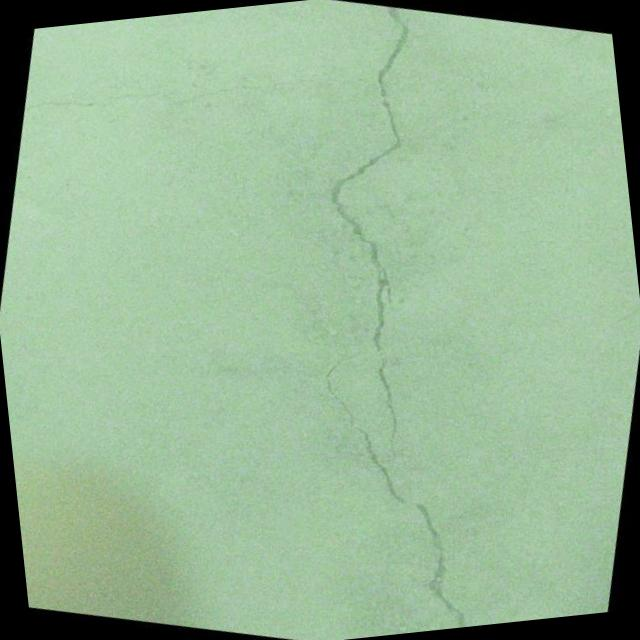crack: (0, 0, 495, 497), (294, 336, 440, 514), (380, 495, 492, 634)
